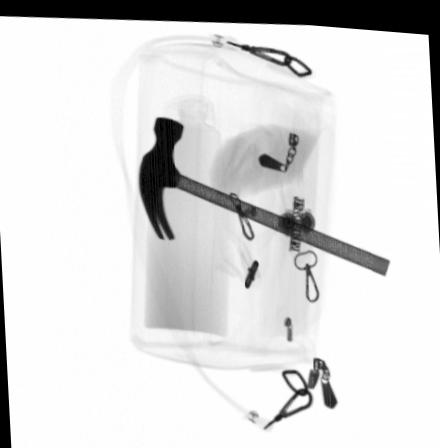Hammer: (139, 113, 389, 270)
